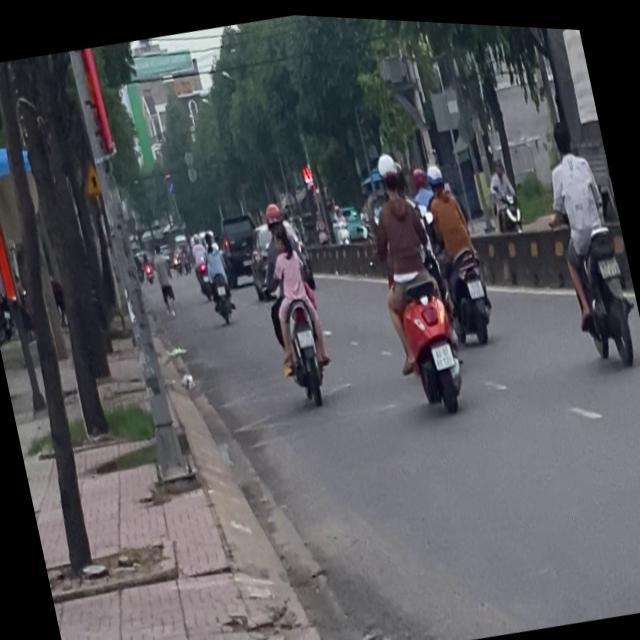helmet: (372, 144, 406, 194), (424, 155, 446, 188), (262, 195, 283, 224)
licenseplate: (354, 137, 472, 415), (533, 103, 640, 364), (246, 189, 340, 405), (416, 150, 499, 343)
motorcyclist: (548, 109, 576, 150), (269, 216, 292, 250)
nohelmet: (429, 335, 454, 364), (598, 247, 620, 270), (466, 271, 484, 292), (296, 324, 313, 343)
